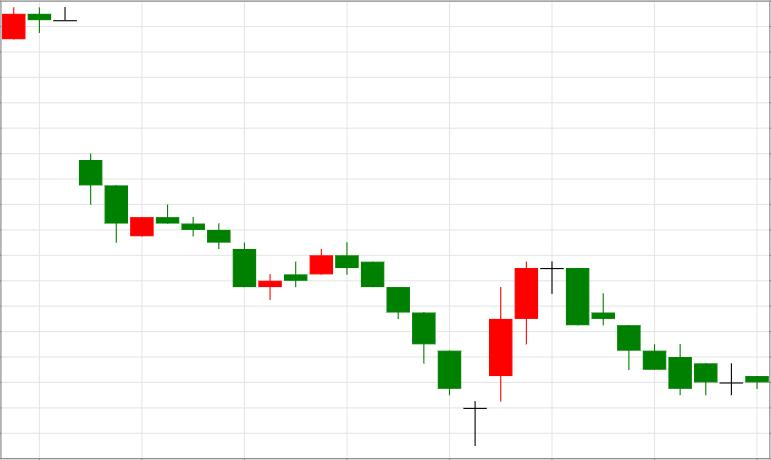morning_star_rise: (335, 243, 513, 446)
